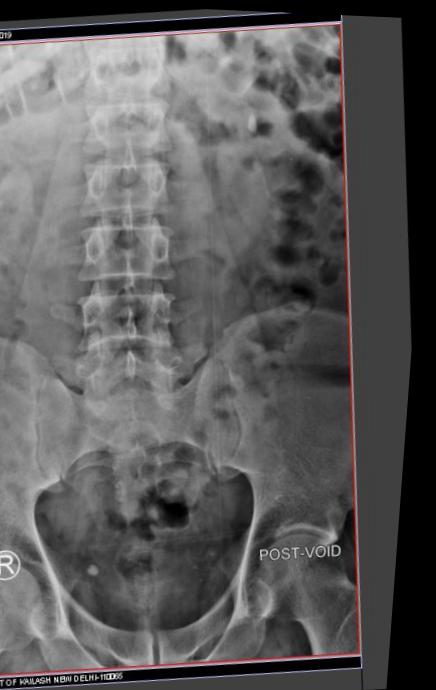bladder: (73, 536, 241, 645)
vertebrae: (76, 90, 179, 161)
